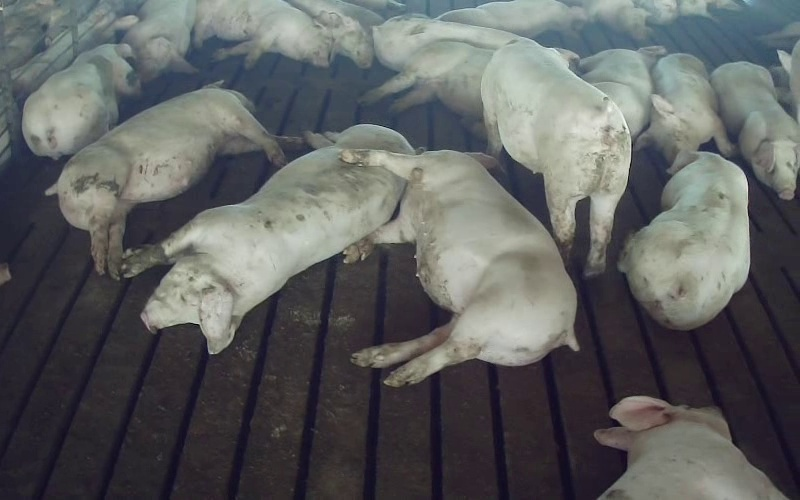pig: (122, 125, 413, 352), (341, 149, 578, 386), (46, 85, 301, 278), (481, 39, 630, 275), (618, 151, 749, 329), (594, 396, 787, 499), (22, 44, 139, 158), (358, 41, 492, 138), (711, 61, 799, 199), (635, 53, 732, 163), (193, 0, 331, 68), (579, 46, 665, 139), (123, 0, 197, 81)
